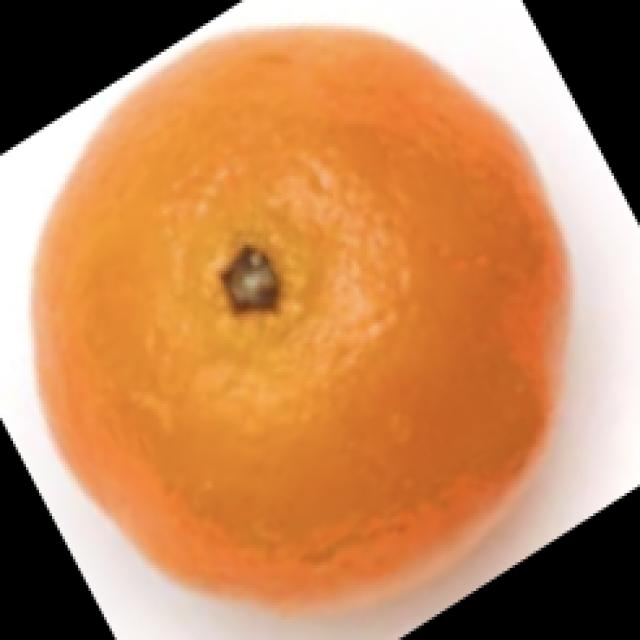fresh: (23, 22, 583, 622)
